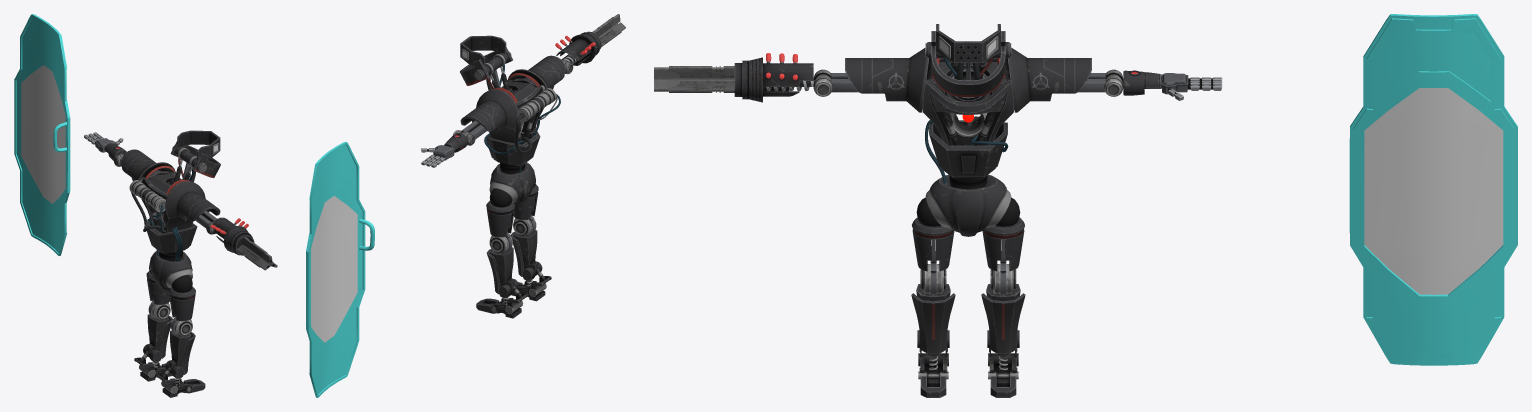
Rendered from ShieldCharacterUVs_.fbx.
3 renders of one model, left to right at view 1: azimuth 30°, elevation 25°; view 2: azimuth 150°, elevation 25°; view 3: azimuth 270°, elevation 25°, orthographic. The views are drawn at different scales.
Visible parts, largest first — view 1: Shield, ShieldShader, R_ShoulderArmour_low.001, Hips_low.001, L_ShoulderArmour_low.001, R_Turret_low.001, Torso_Lower_low.001, Head_low.001, Torso_low.001, R_Thigh_low.001, R_Foot_low.001, L_Foot_low.001 (+13 smaller); view 2: Shield, ShieldShader, L_ShoulderArmour_low.001, Hips_low.001, R_ShoulderArmour_low.001, R_Turret_low.001, Torso_Lower_low.001, Head_low.001, Torso_low.001, L_Thigh_low.001, L_Foot_low.001, R_Foot_low.001 (+12 smaller); view 3: Shield, ShieldShader, Hips_low.001, L_ShoulderArmour_low.001, R_ShoulderArmour_low.001, R_Turret_low.001, Torso_Lower_low.001, Torso_low.001, L_KneePlate_low.001, R_KneePlate_low.001, Jaw_low.001, R_Thigh_low.001 (+7 smaller).
Boxes of the visible parts, left/top/right/bottom form: Shield: left=14, top=14, right=70, bottom=255; ShieldShader: left=21, top=65, right=65, bottom=203; R_ShoulderArmour_low.001: left=165, top=179, right=220, bottom=221; Hips_low.001: left=149, top=251, right=192, bottom=290; L_ShoulderArmour_low.001: left=121, top=149, right=175, bottom=181; R_Turret_low.001: left=210, top=217, right=254, bottom=255; Torso_Lower_low.001: left=145, top=217, right=197, bottom=253; Head_low.001: left=177, top=130, right=220, bottom=160; Torso_low.001: left=141, top=171, right=193, bottom=232; R_Thigh_low.001: left=168, top=286, right=195, bottom=321; R_Foot_low.001: left=156, top=360, right=190, bottom=397; L_Foot_low.001: left=134, top=344, right=166, bottom=381; Shield: left=306, top=141, right=374, bottom=397; ShieldShader: left=311, top=196, right=357, bottom=342; L_ShoulderArmour_low.001: left=460, top=87, right=518, bottom=131; Hips_low.001: left=489, top=162, right=535, bottom=204; R_ShoulderArmour_low.001: left=507, top=55, right=565, bottom=89; R_Turret_low.001: left=555, top=31, right=601, bottom=65; Torso_Lower_low.001: left=486, top=128, right=540, bottom=165; Head_low.001: left=460, top=35, right=506, bottom=67; Torso_low.001: left=489, top=78, right=543, bottom=143; L_Thigh_low.001: left=486, top=200, right=514, bottom=237; L_Foot_low.001: left=491, top=279, right=528, bottom=318; R_Foot_low.001: left=517, top=261, right=551, bottom=301; Shield: left=1349, top=14, right=1517, bottom=365; ShieldShader: left=1364, top=88, right=1503, bottom=294; Hips_low.001: left=925, top=174, right=1011, bottom=236; L_ShoulderArmour_low.001: left=997, top=47, right=1091, bottom=112; R_ShoulderArmour_low.001: left=845, top=48, right=939, bottom=112; R_Turret_low.001: left=734, top=53, right=813, bottom=102; Torso_Lower_low.001: left=929, top=120, right=1007, bottom=178; Torso_low.001: left=922, top=58, right=1014, bottom=145; L_KneePlate_low.001: left=981, top=293, right=1025, bottom=354; R_KneePlate_low.001: left=911, top=293, right=955, bottom=354; Jaw_low.001: left=931, top=31, right=1005, bottom=97; R_Thigh_low.001: left=912, top=217, right=954, bottom=271.
Bounding box in the file's own units: 1.19 × 3.65 × 7.43.
